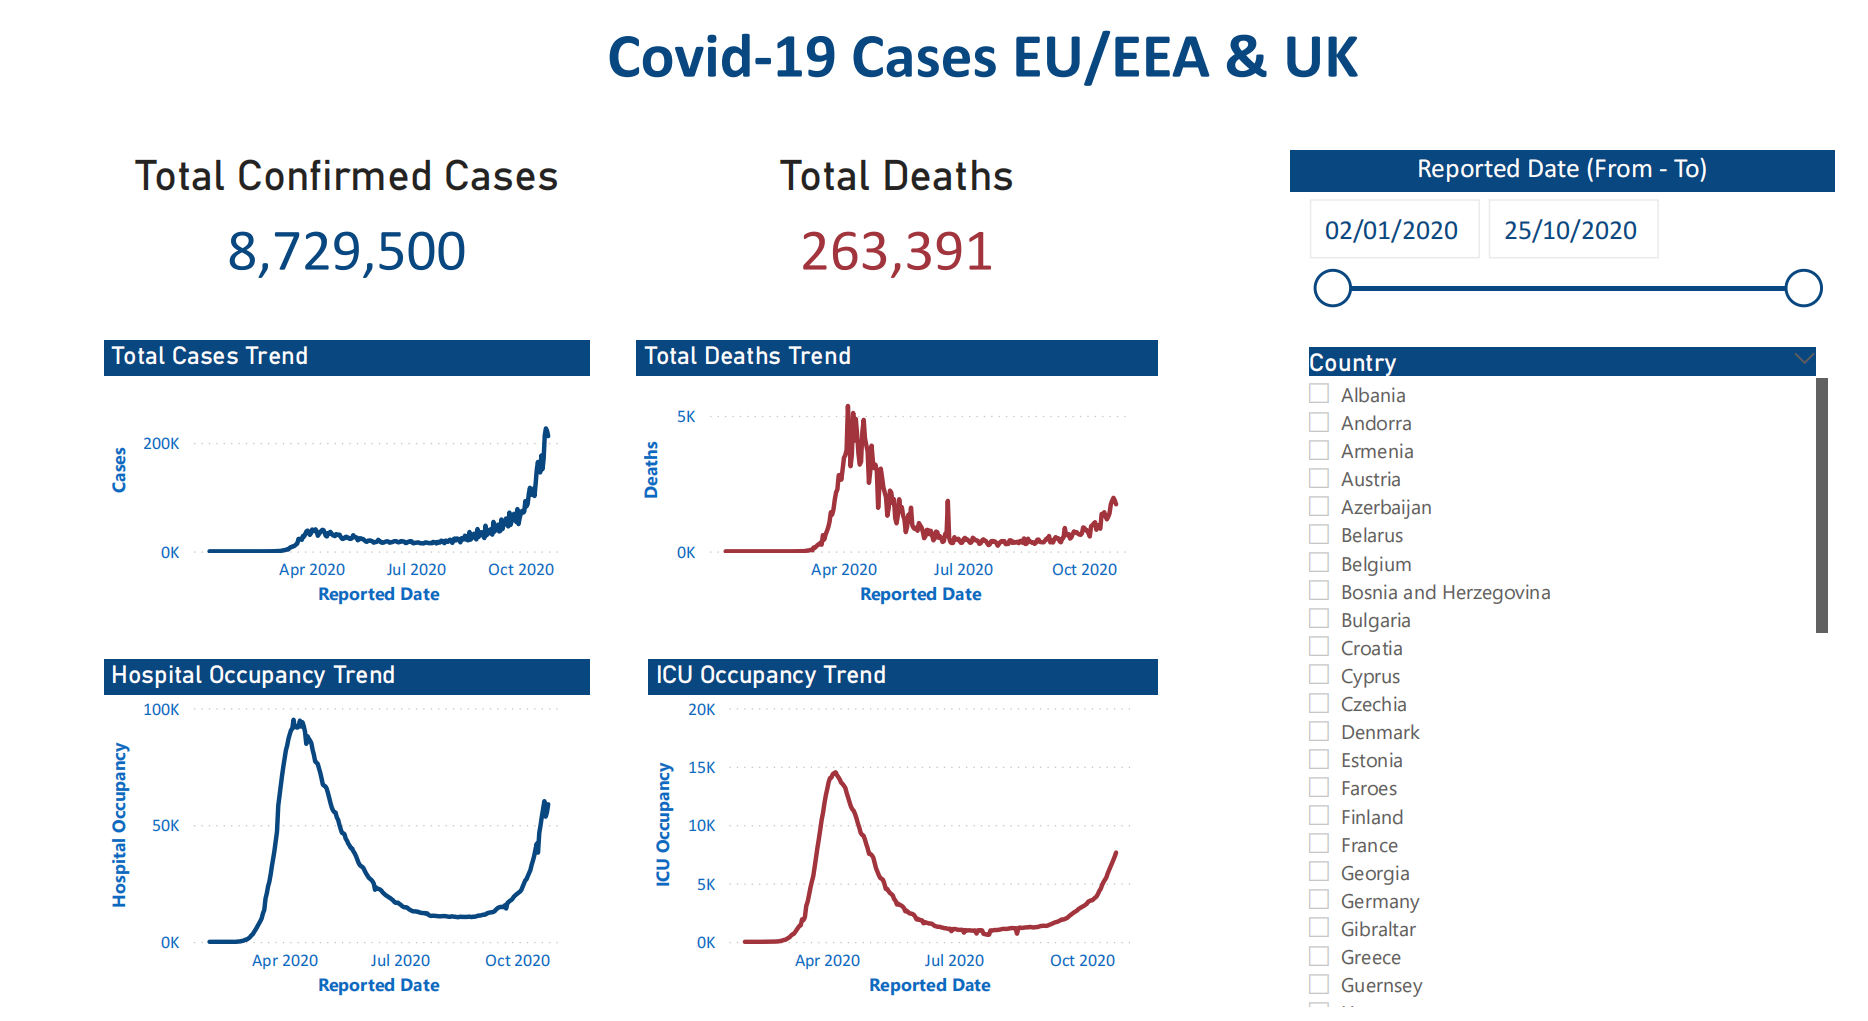

The dashboard page shown, as its layout file describes it:
{"tool":"powerbi","page":{"name":"Trends","canvas":[1280,720],"ordinal":0},"visuals":[{"type":"card","title":"Total Confirmed Cases","fields":{"Values":["Sum(covid_reporting cases_and_deaths.cases_count)"]},"box":[94.4,96,328,96],"z":0},{"type":"card","title":"Total Deaths","fields":{"Values":["Sum(covid_reporting cases_and_deaths.deaths_count)"]},"box":[454.4,96,352,96],"z":1000},{"type":"textbox","box":[376,0,624,64],"z":2000},{"type":"lineChart","title":"Total Cases Trend","fields":{"Category":["covid_reporting cases_and_deaths.reported_date"],"Y":["Sum(covid_reporting cases_and_deaths.cases_count)"]},"box":[94.4,224,328,184],"z":3000},{"type":"lineChart","title":"Total Deaths Trend","fields":{"Category":["covid_reporting cases_and_deaths.reported_date"],"Y":["Sum(covid_reporting cases_and_deaths.deaths_count)"]},"box":[454.4,224,352,184],"z":4000},{"type":"slicer","fields":{"Values":["covid_reporting cases_and_deaths.country"]},"box":[896,224,368,456],"z":5000},{"type":"lineChart","title":"Hospital Occupancy Trend","fields":{"Y":["Sum(covid_reporting hospital_admissions_daily.hospital_occupancy_count)"],"Category":["covid_reporting hospital_admissions_daily.reported_date"]},"box":[94.4,440,328,232],"z":6000},{"type":"lineChart","title":"ICU Occupancy Trend","fields":{"Y":["Sum(covid_reporting hospital_admissions_daily.icu_occupancy_count)"],"Category":["covid_reporting hospital_admissions_daily.reported_date"]},"box":[462.4,440,344,232],"z":7000},{"type":"slicer","title":"Reported Date (From - To)","fields":{"Values":["covid_reporting cases_and_deaths.reported_date"]},"box":[896,96,368,112],"z":8001}]}

Visuals, with their boxes in screenshot pixels (x1, y1, x2, y2), scaled from the page's 1280x720 canvas onto the 1868x1021 screenshot:
"Total Confirmed Cases" card: 138,136,616,272
"Total Deaths" card: 663,136,1177,272
textbox: 549,0,1459,91
"Total Cases Trend" lineChart: 138,318,616,579
"Total Deaths Trend" lineChart: 663,318,1177,579
slicer - covid_reporting cases_and_deaths.country: 1308,318,1845,964
"Hospital Occupancy Trend" lineChart: 138,624,616,953
"ICU Occupancy Trend" lineChart: 675,624,1177,953
"Reported Date (From - To)" slicer: 1308,136,1845,295
